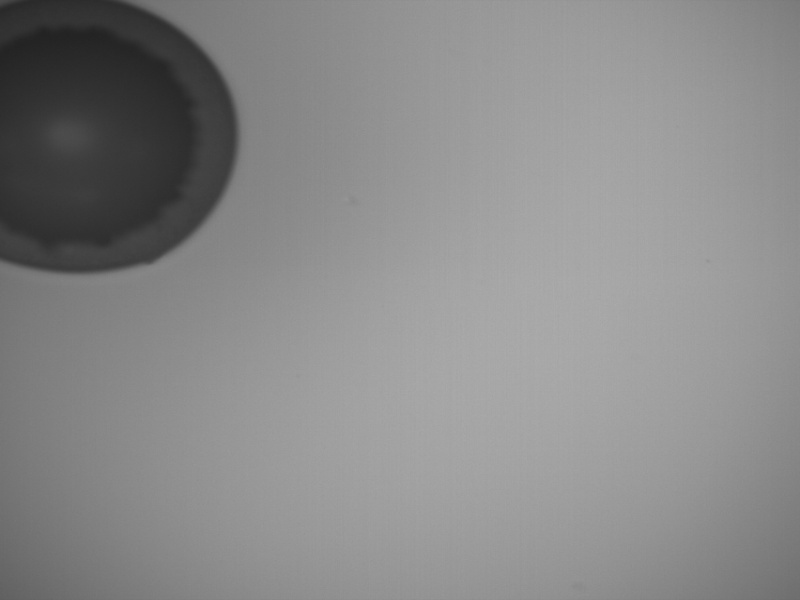bead: (1, 1, 239, 274)
